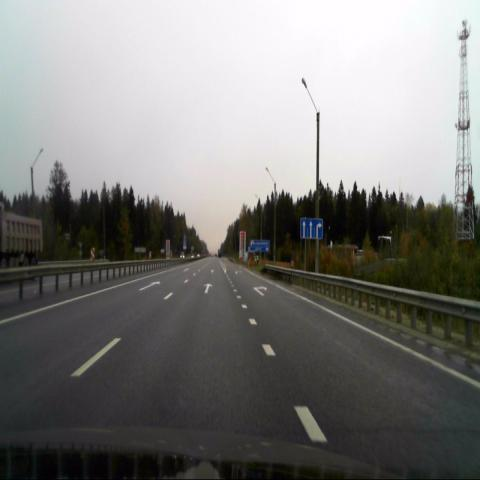5_15_1: (300, 219, 322, 239)
